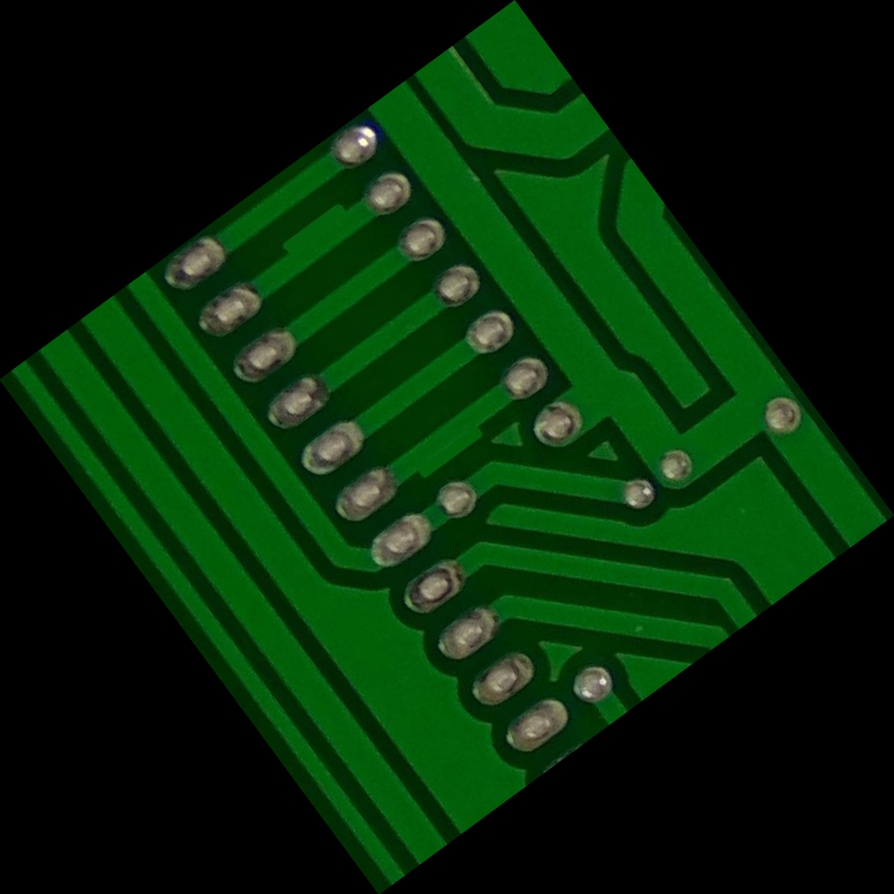spur: (392, 398, 503, 496)
